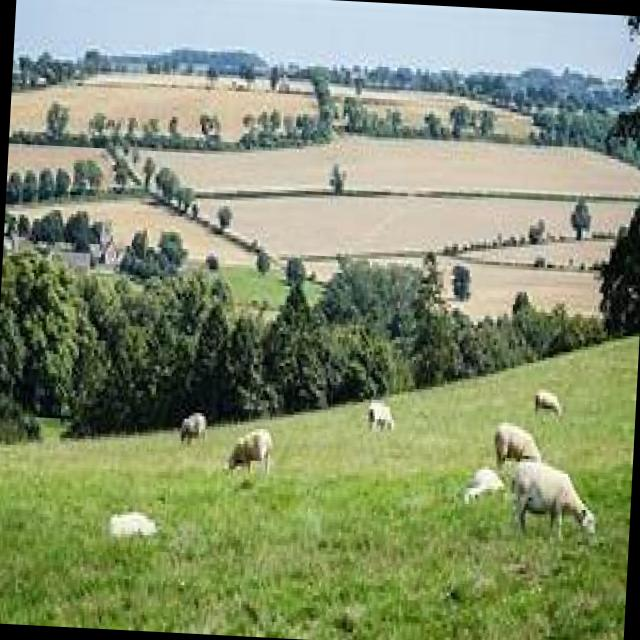animal: (510, 462, 600, 534), (224, 427, 272, 481), (492, 424, 544, 469), (532, 382, 564, 412), (367, 403, 399, 432), (178, 418, 208, 442)
